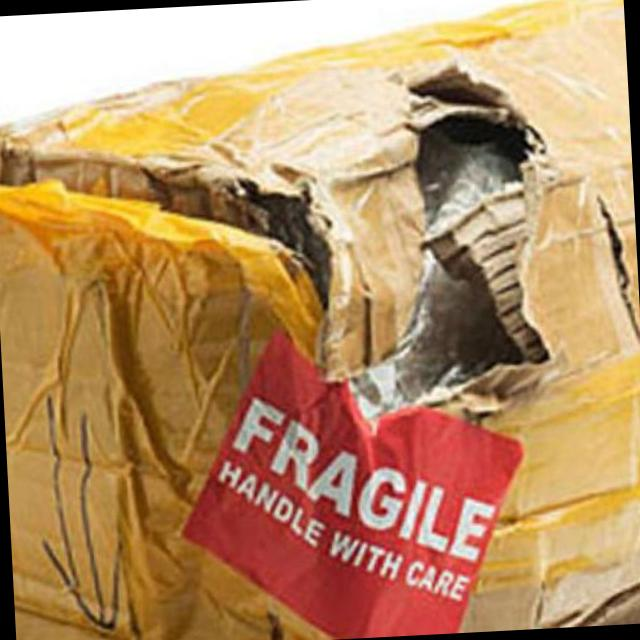box: (1, 1, 640, 640)
tear: (223, 74, 584, 421)
